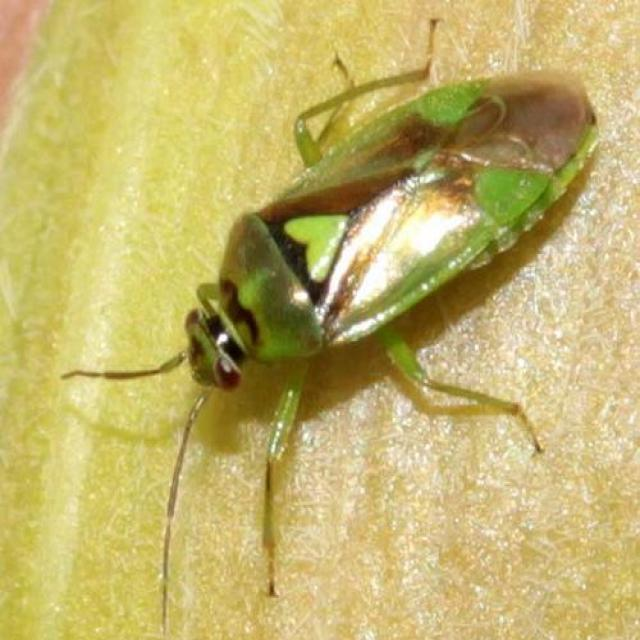Miridae-Adult-: (52, 11, 606, 599)
